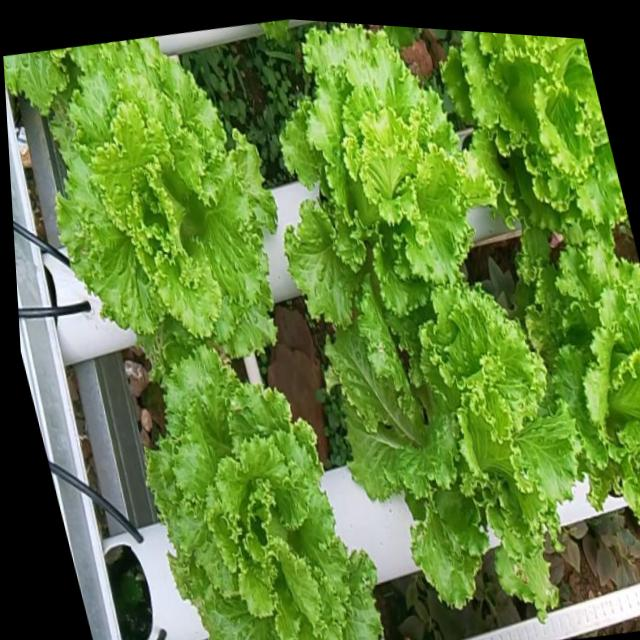Mature: (325, 274, 574, 640), (6, 37, 275, 361), (144, 339, 382, 640), (279, 21, 494, 322), (443, 31, 628, 252), (526, 237, 640, 516)
